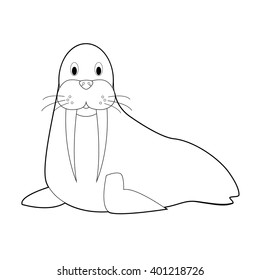animal: (20, 45, 243, 214)
